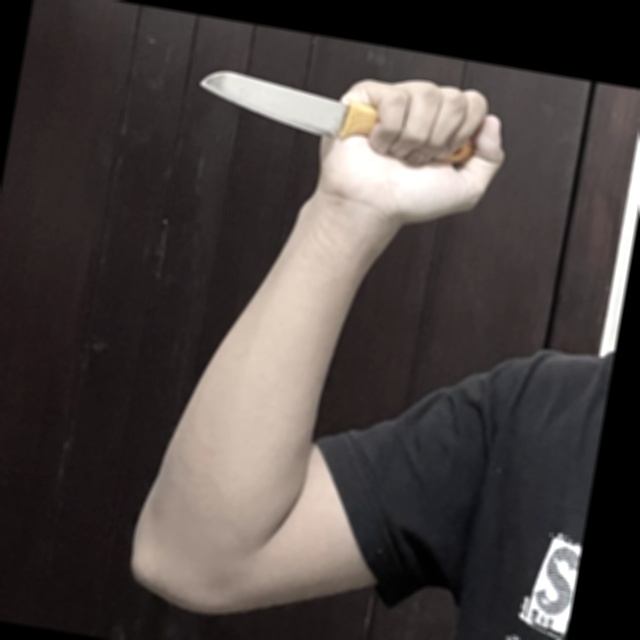Sharp-Object: (191, 63, 484, 172)
